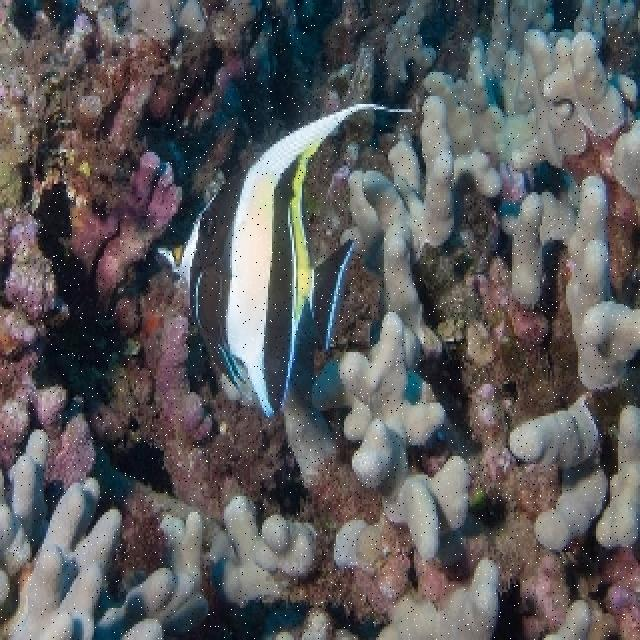fish: (152, 103, 415, 419)
reefs: (283, 0, 638, 557), (2, 432, 210, 637), (101, 454, 319, 601), (502, 169, 638, 390), (274, 515, 499, 637), (506, 399, 612, 555), (599, 410, 638, 552)
